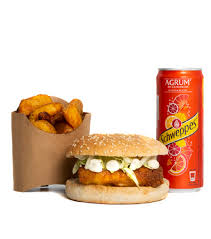not-coke: (147, 63, 210, 195)
